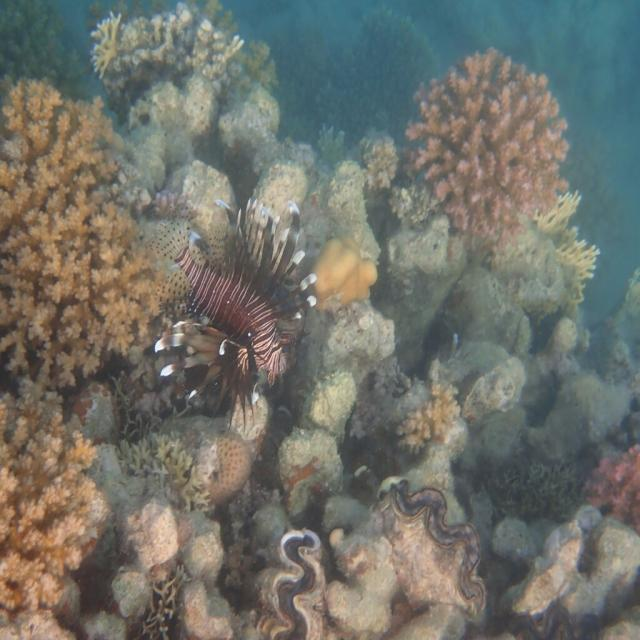Aslan Baligi: (151, 193, 318, 434)
